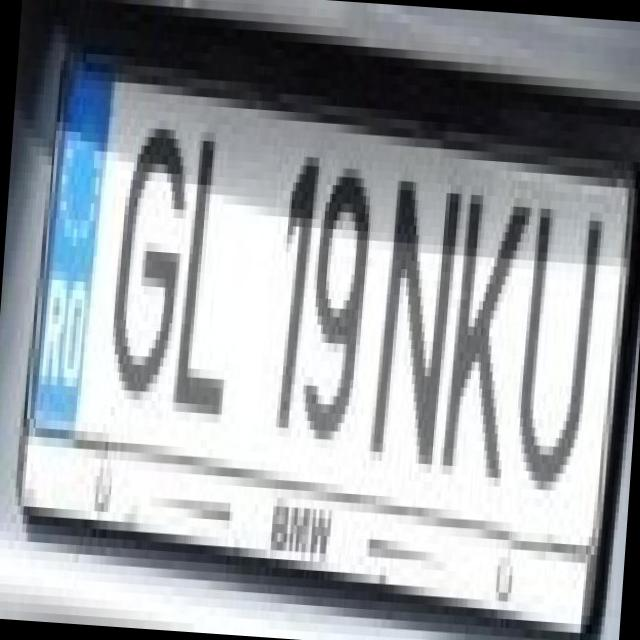1: (244, 119, 322, 428)
9: (291, 148, 378, 442)
G: (98, 90, 196, 402)
K: (429, 166, 534, 478)
L: (166, 104, 252, 406)
N: (363, 153, 470, 465)
U: (500, 181, 610, 484)
